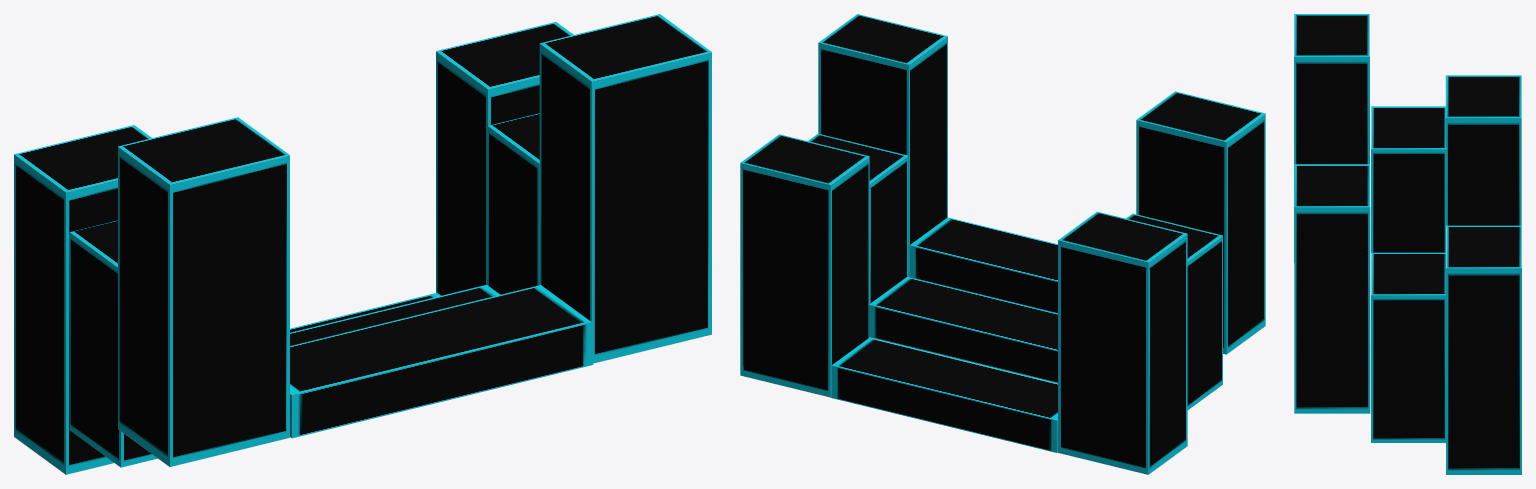
File: stairs_section.fbx
The picture shows the model from 3 angles, left to right: view 1: azimuth 30°, elevation 25°; view 2: azimuth 150°, elevation 25°; view 3: azimuth 270°, elevation 25°; orthographic projection. The views are drawn at different scales.
Parts seen in each view (by area): view 1: stairsSection; view 2: stairsSection; view 3: stairsSection.
Part boxes in pixels (x1,y1,x2,y2): stairsSection: (14, 14, 711, 474); stairsSection: (740, 14, 1265, 474); stairsSection: (1294, 14, 1521, 474).
Size of the model in its own units: 180 by 117 by 89.82.
